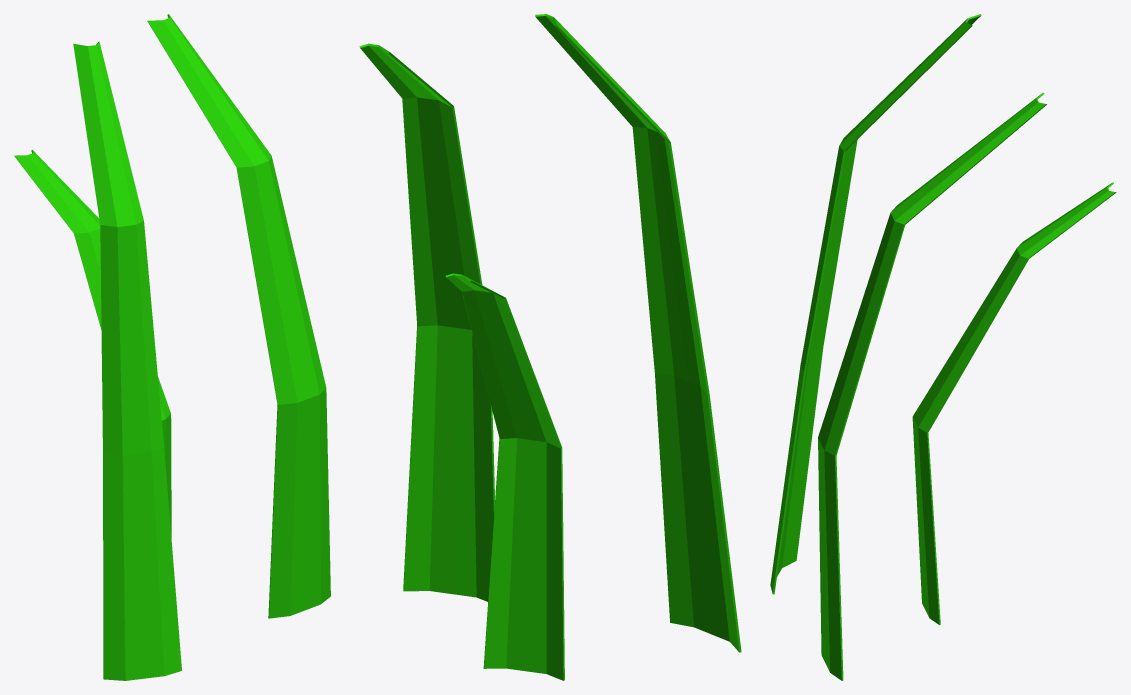
The model's file is grass03.fbx.
3 renders of one model, left to right at view 1: azimuth 30°, elevation 25°; view 2: azimuth 150°, elevation 25°; view 3: azimuth 270°, elevation 25°, orthographic. The views are drawn at different scales.
Visible parts, largest first — view 1: Plane; view 2: Plane; view 3: Plane.
Boxes of the visible parts, left/top/right/bottom form: Plane: left=14, top=14, right=330, bottom=680; Plane: left=359, top=14, right=741, bottom=680; Plane: left=770, top=14, right=1116, bottom=680.
Bounding box in the file's own units: 15.79 × 33.55 × 18.27.
